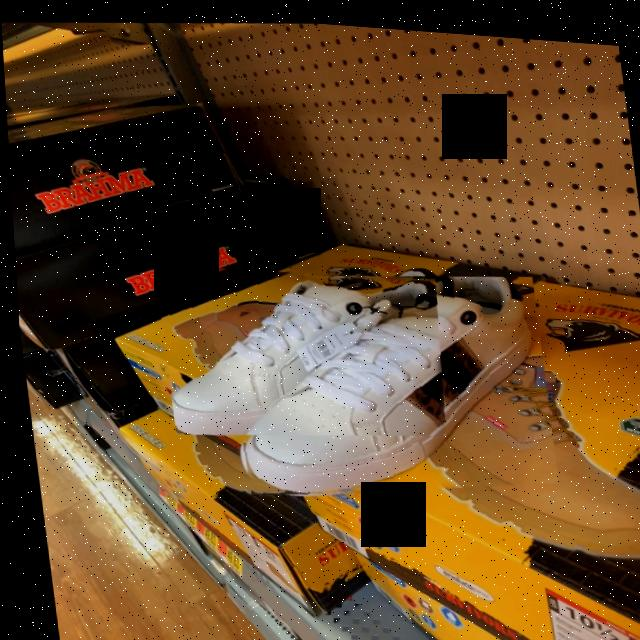shoe: (238, 269, 531, 490), (166, 269, 432, 432)
